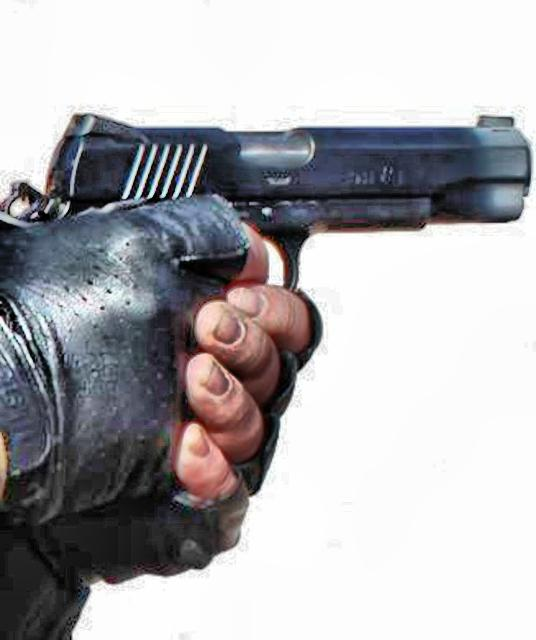pistol: (42, 109, 536, 301)
